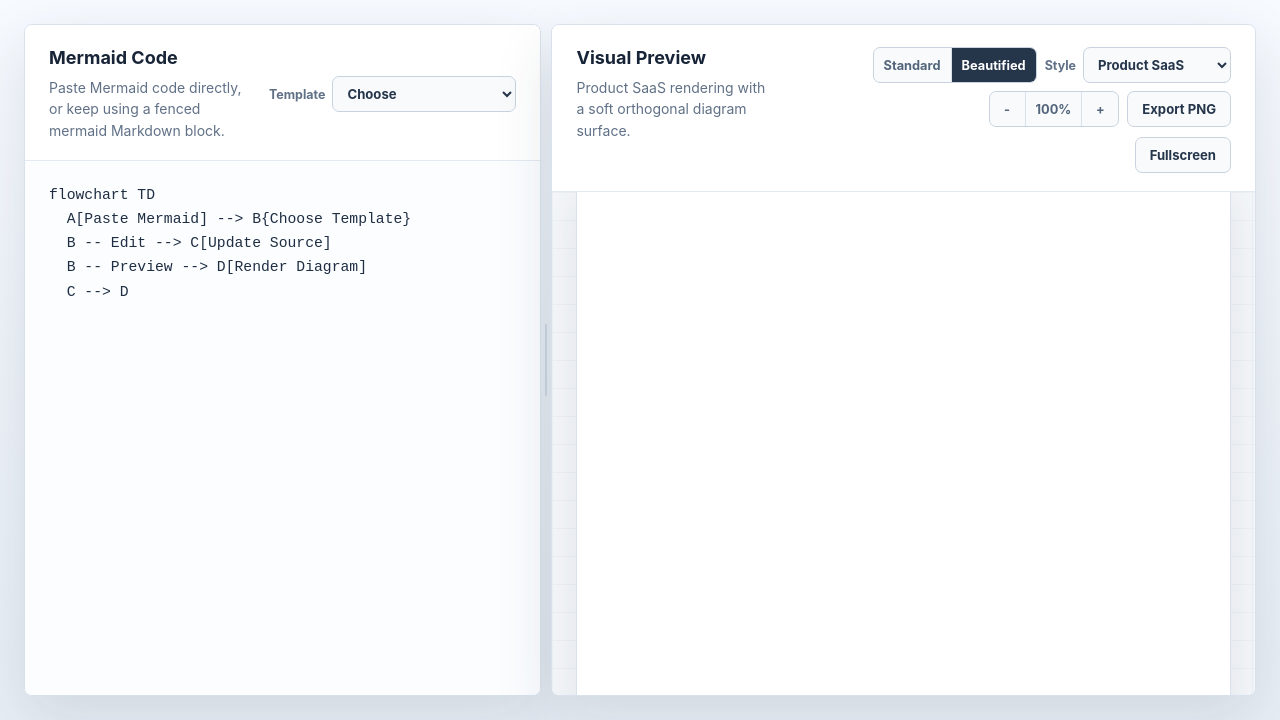
it: App › replaces the editor source and resets zoom when selecting a template
expect the button "Export PNG" is enabled: met, box 1127,91 -> 1231,127
Click the button named "Zoom in" at (1100, 109), box 1082,92 -> 1118,126
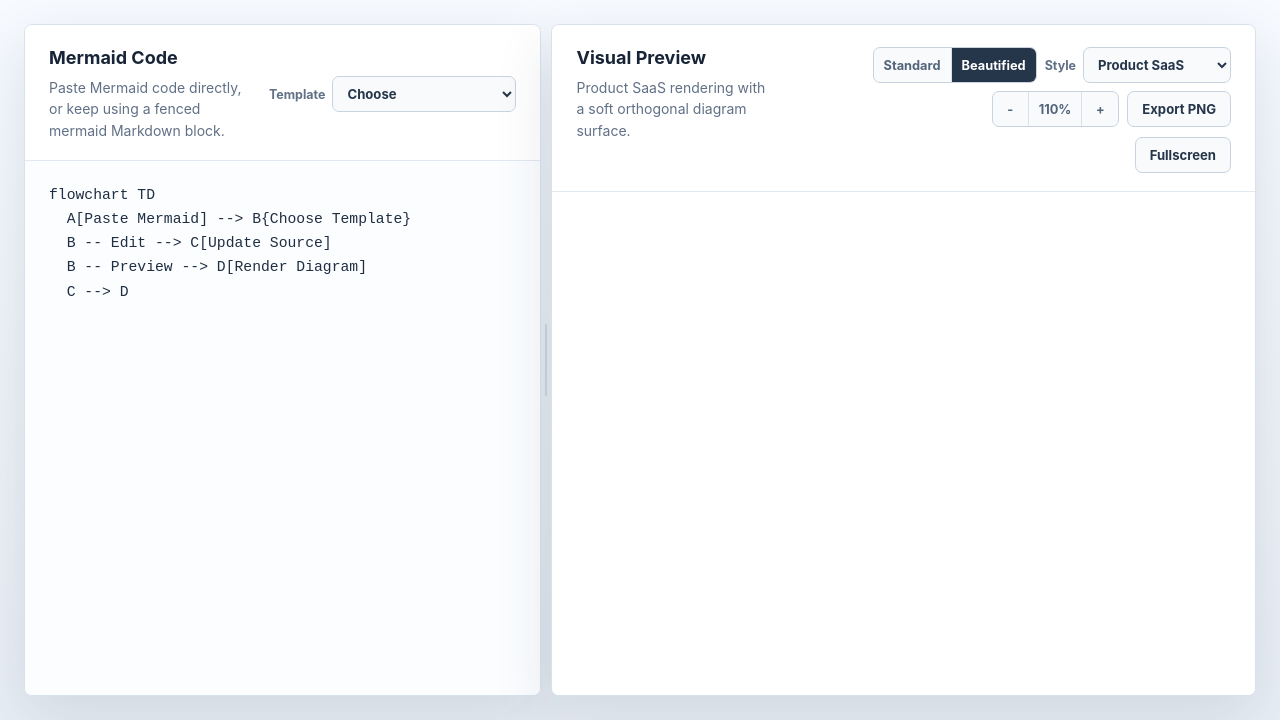
expect the button named "Reset zoom" reads "110%": met, box 1029,92 -> 1082,126
Select "Sequence Diagram" in the dropdown named "Mermaid template" at (424, 94), box 332,76 -> 516,112
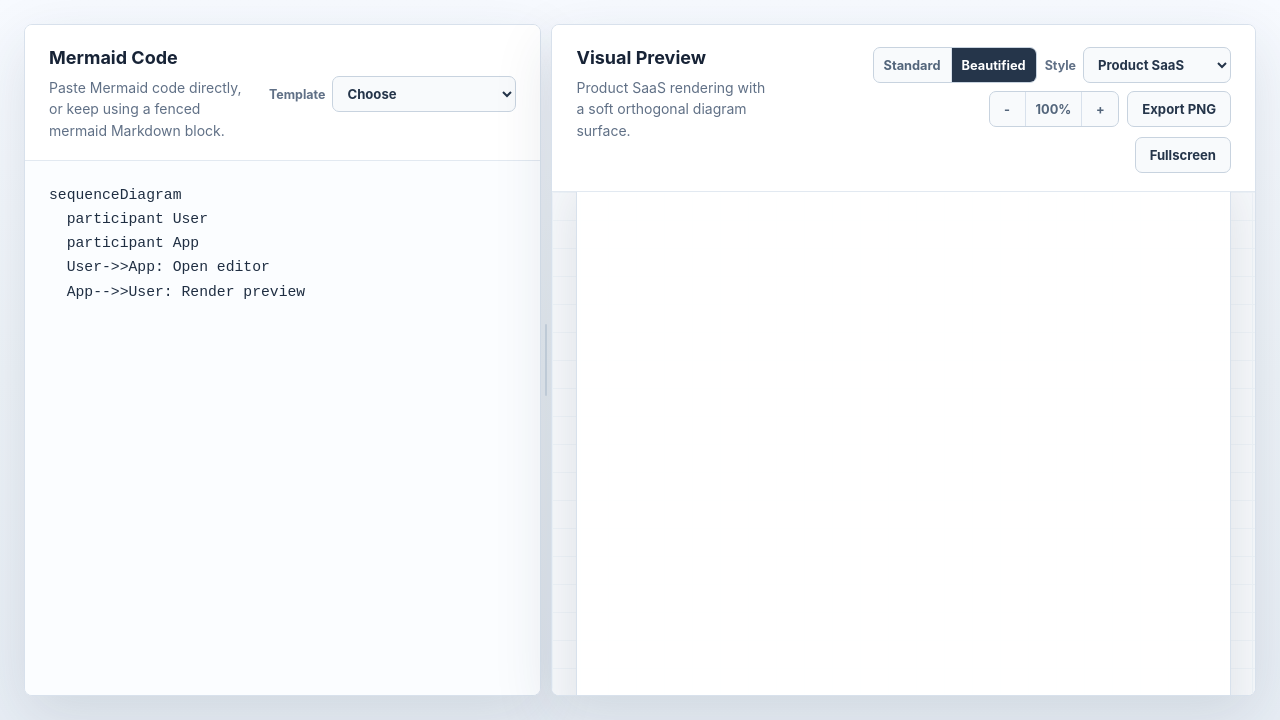
expect the text box named "Mermaid code input" holds "sequenceDiagram   participant User   participant App   User->>App: Open editor   App-->>User: Render preview": met, box 25,161 -> 540,695
expect the button named "Reset zoom" reads "100%": met, box 1026,92 -> 1082,126
